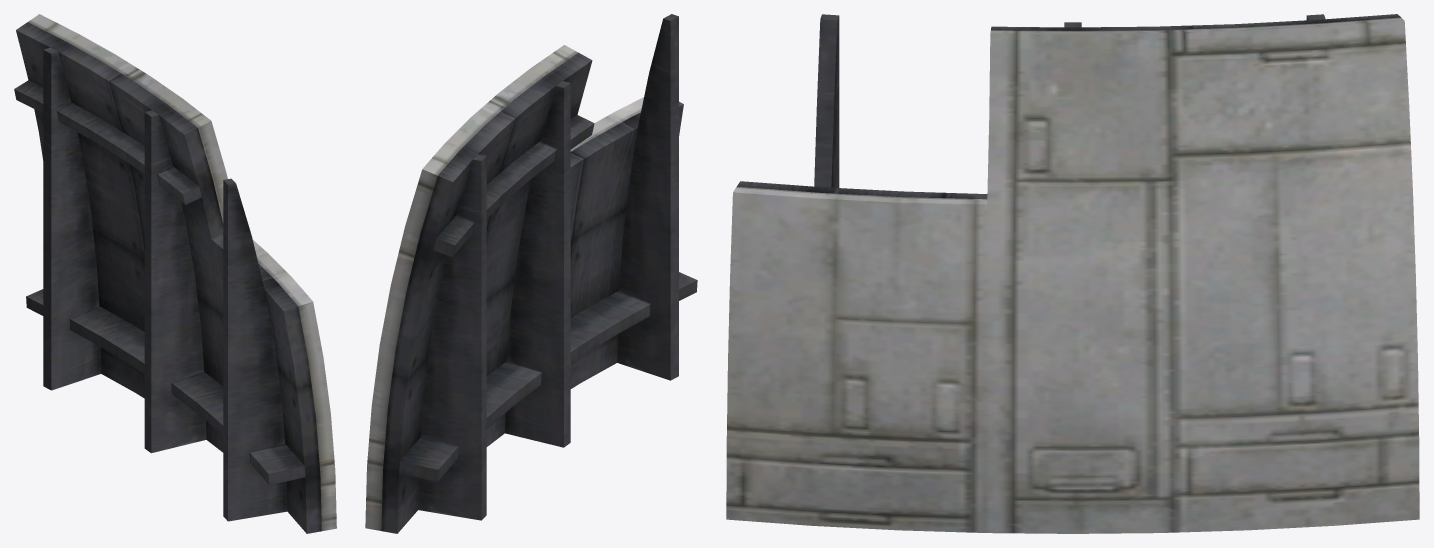
The model's file is ship_component_armor_s01_l0.fbx.
The picture shows the model from 3 angles, left to right: view 1: azimuth 30°, elevation 25°; view 2: azimuth 150°, elevation 25°; view 3: azimuth 270°, elevation 25°; orthographic projection. The views are drawn at different scales.
Parts seen in each view (by area): view 1: mesh_node; view 2: mesh_node; view 3: mesh_node.
Boxes of the visible parts, x1,y1,x2,y2 form: mesh_node: (14, 14, 336, 533); mesh_node: (365, 14, 697, 533); mesh_node: (726, 14, 1419, 533).
Size of the model in its own units: 0.3521 by 1.19 by 1.59.
